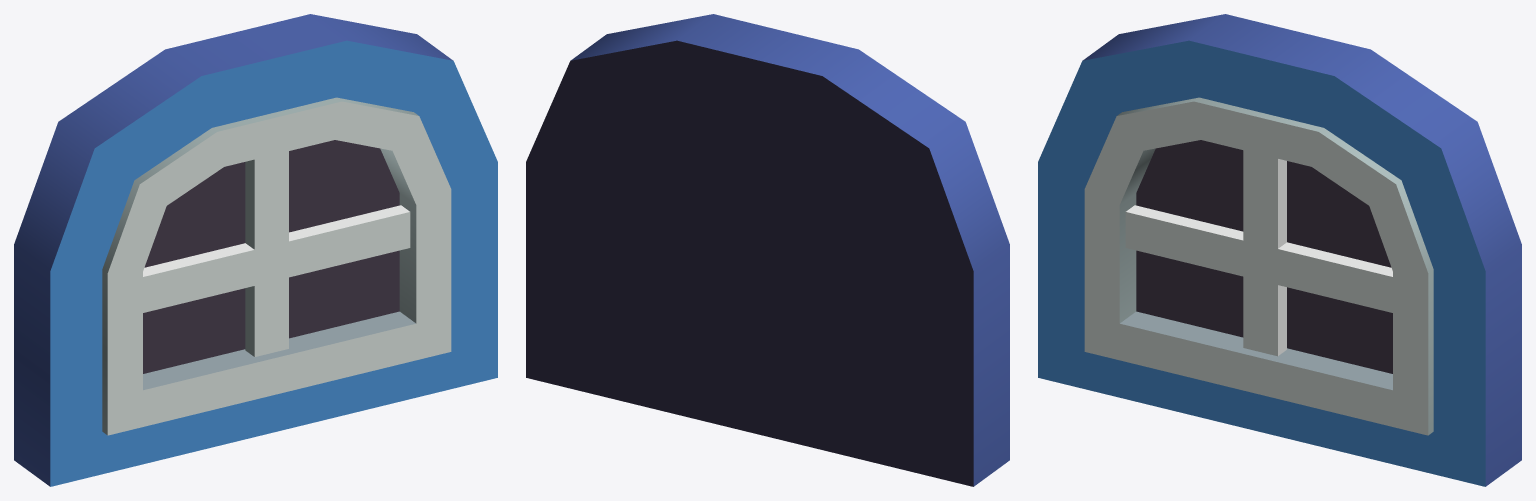
Rendered from Window01_Blue_White.glb.
3 renders of one model, left to right at view 1: azimuth 30°, elevation 25°; view 2: azimuth 150°, elevation 25°; view 3: azimuth 330°, elevation 25°, orthographic.
Parts seen in each view (by area): view 1: Window01_Blue_White; view 2: Window01_Blue_White; view 3: Window01_Blue_White.
Part boxes in pixels (x1=…): Window01_Blue_White: x1=14, y1=14, x2=497, y2=486; Window01_Blue_White: x1=526, y1=14, x2=1009, y2=486; Window01_Blue_White: x1=1038, y1=14, x2=1521, y2=486.
Size of the model in its own units: 0.8998 by 0.7186 by 0.1456.
1 material, 1 textured.
